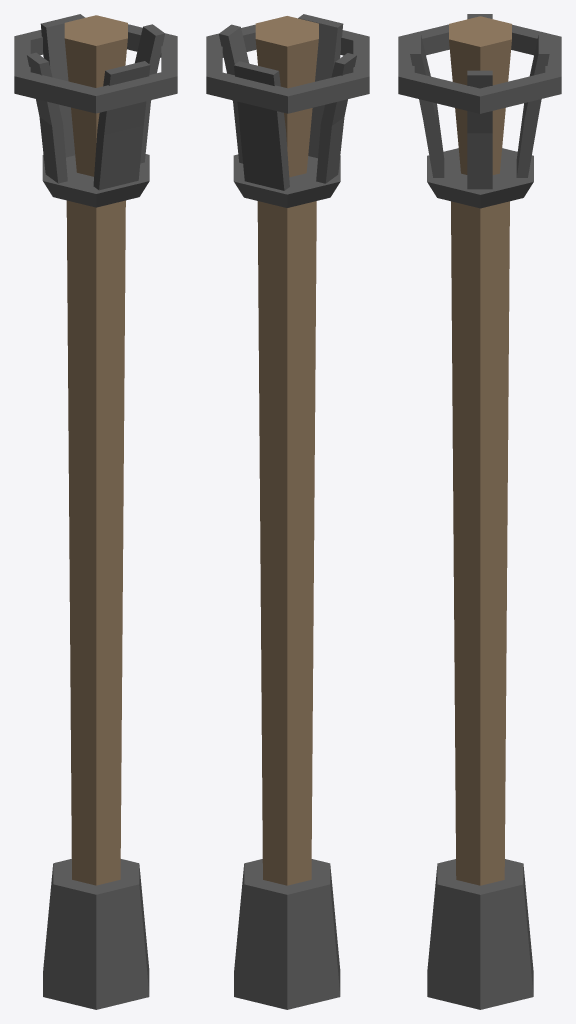
File: env_Torch.fbx
The picture shows the model from 3 angles, left to right: view 1: azimuth 30°, elevation 25°; view 2: azimuth 150°, elevation 25°; view 3: azimuth 270°, elevation 25°; orthographic projection.
Parts seen in each view (by area): view 1: env_Torch; view 2: env_Torch; view 3: env_Torch.
Boxes of the visible parts, x1,y1,x2,y2 form: env_Torch: (14,14,177,1009); env_Torch: (206,14,369,1009); env_Torch: (398,14,561,1009).
Bounding box in the file's own units: 26.16 × 146 × 22.65.
